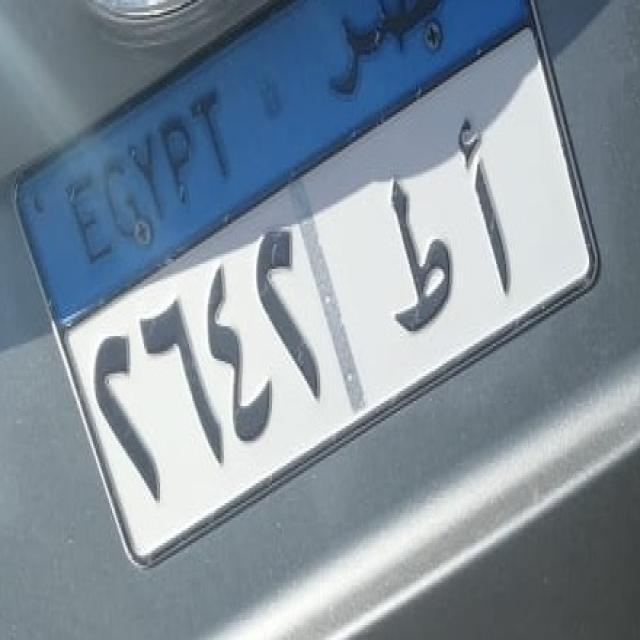2: (250, 200, 328, 412), (94, 319, 164, 512)
4: (204, 245, 274, 456)
6: (140, 285, 228, 483)
Taa: (385, 167, 459, 354)
alef: (456, 108, 516, 308)
